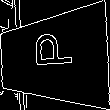P_W: (31, 38, 77, 78)
